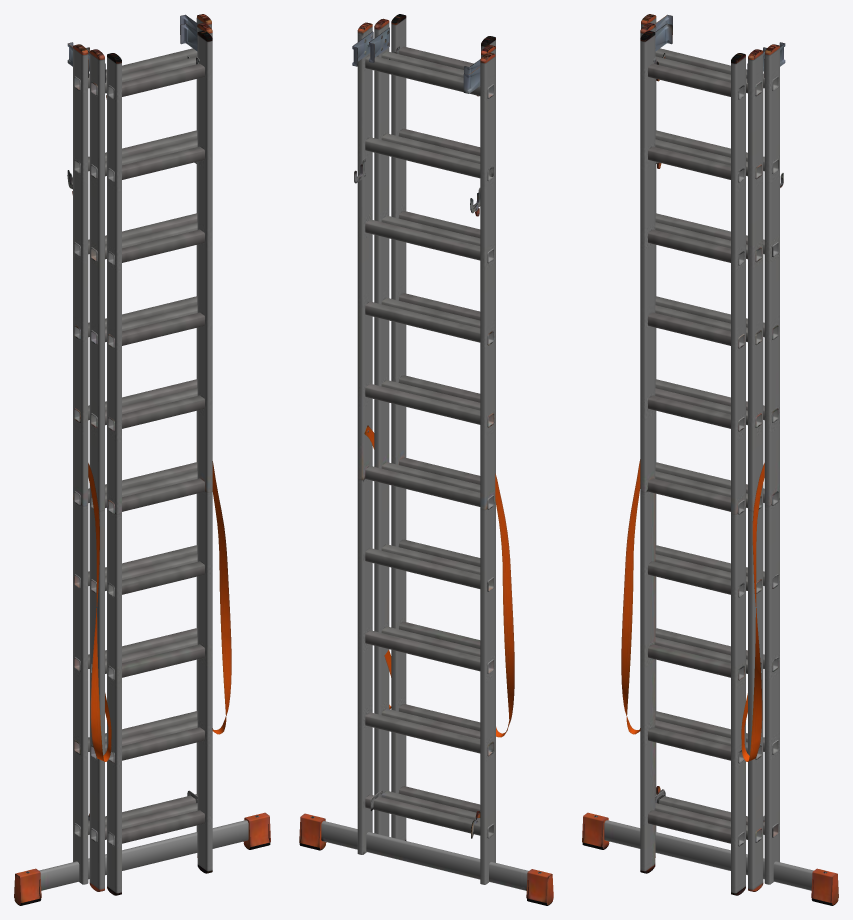
Rendered from ladder_sectioned_01.gltf.
The picture shows the model from 3 angles, left to right: view 1: azimuth 30°, elevation 25°; view 2: azimuth 150°, elevation 25°; view 3: azimuth 330°, elevation 25°; orthographic projection.
Visible parts, largest first — view 1: ladder_section_03, ladder_section_01, ladder_section_02, ladder_ribbon; view 2: ladder_section_01, ladder_section_02, ladder_section_03, ladder_ribbon; view 3: ladder_section_03, ladder_section_01, ladder_section_02, ladder_ribbon.
Boxes of the visible parts, bbox=[...] form: ladder_section_03: bbox=[106, 30, 212, 895]; ladder_section_01: bbox=[14, 14, 270, 905]; ladder_section_02: bbox=[86, 23, 212, 891]; ladder_ribbon: bbox=[88, 461, 231, 761]; ladder_section_01: bbox=[299, 22, 553, 905]; ladder_section_02: bbox=[369, 18, 495, 862]; ladder_section_03: bbox=[388, 14, 495, 840]; ladder_ribbon: bbox=[364, 425, 514, 737]; ladder_section_03: bbox=[640, 30, 745, 895]; ladder_section_01: bbox=[582, 14, 838, 905]; ladder_section_02: bbox=[640, 23, 766, 891]; ladder_ribbon: bbox=[621, 459, 764, 761].
Bounding box in the file's own units: 0.6615 × 2.13 × 0.1776.
Materials: 1 (1 with a texture image).
